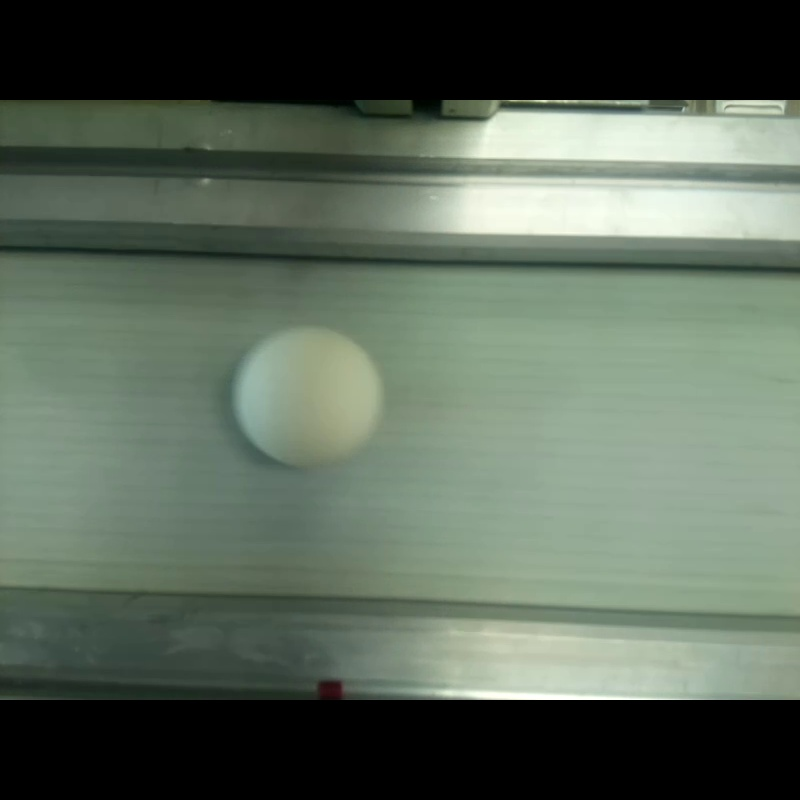marker: (231, 325, 383, 465)
